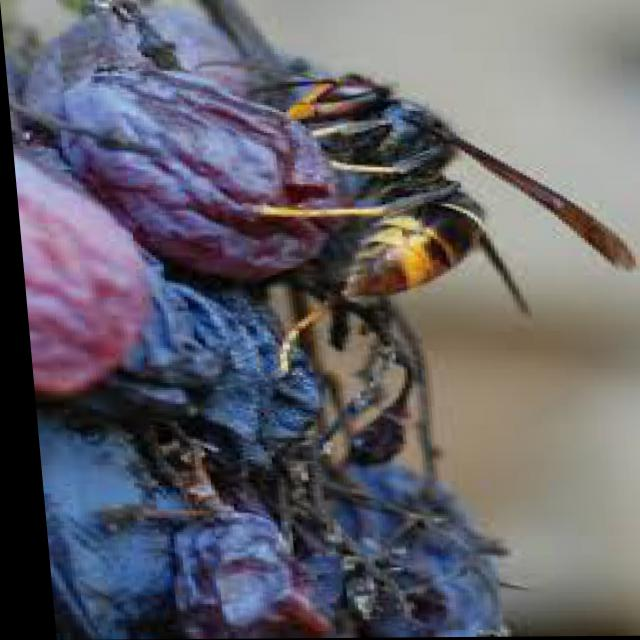Vespa Velutina: (223, 60, 639, 385)
